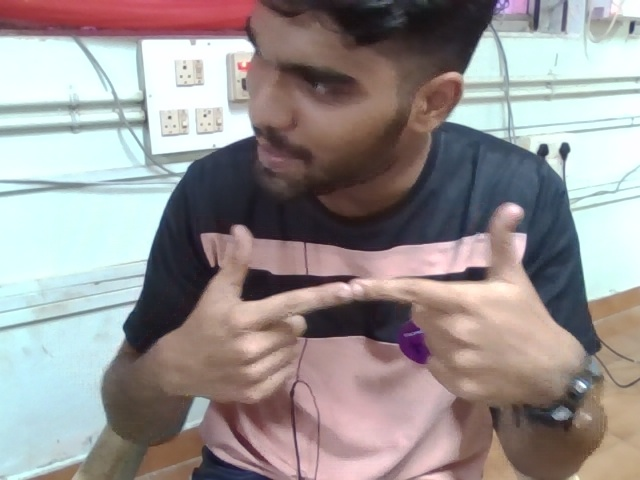hurt: (161, 191, 587, 440)
